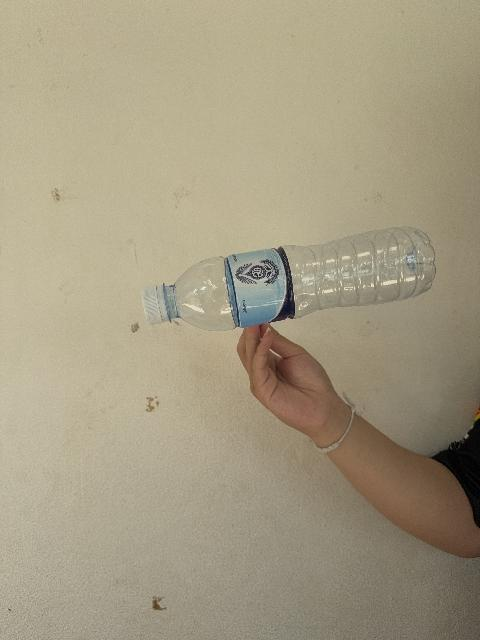bottle: (143, 227, 435, 330)
